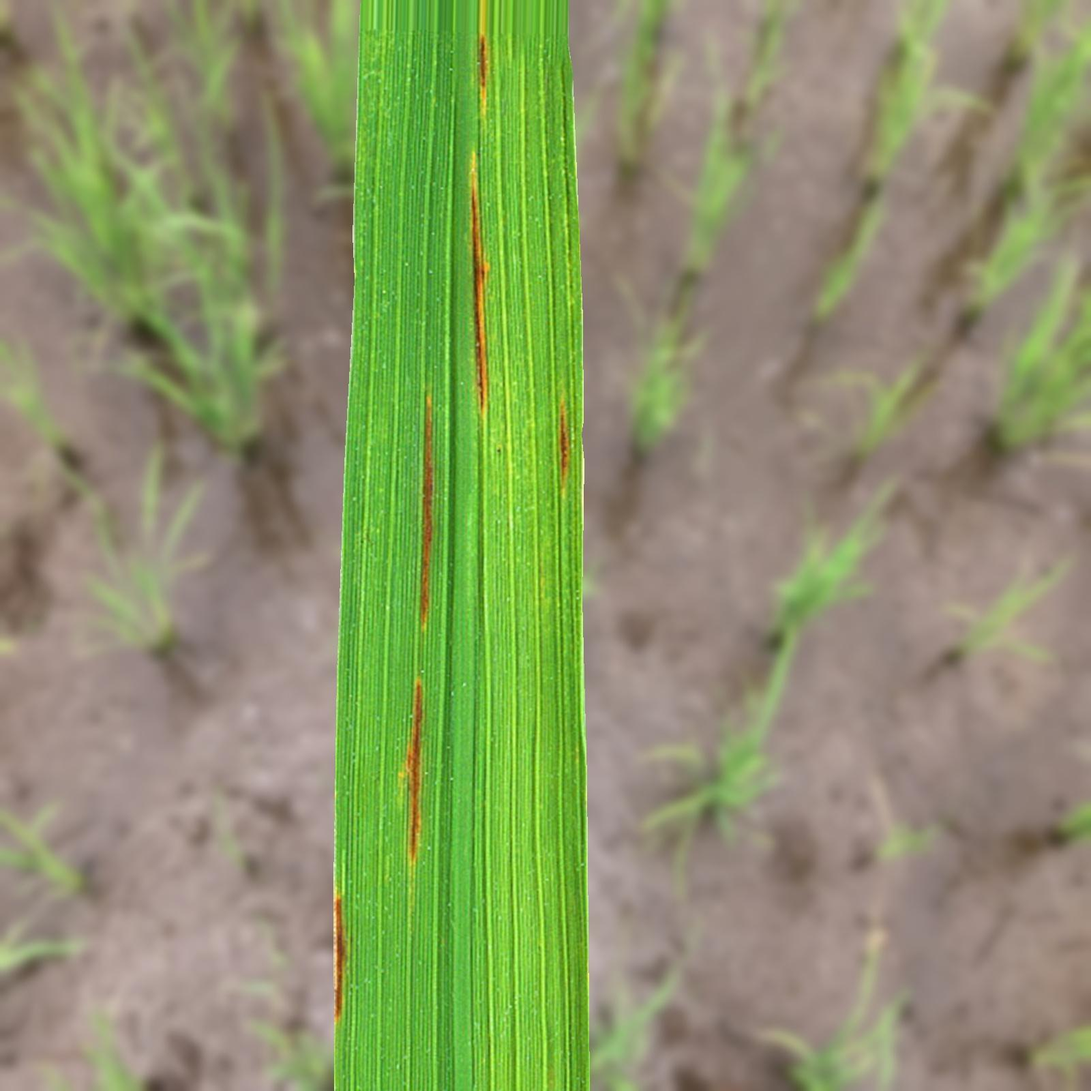LEAF: (333, 0, 590, 1090)
NBS: (471, 152, 488, 414), (406, 676, 423, 863), (420, 395, 433, 627), (335, 894, 346, 1023), (558, 398, 573, 491), (479, 30, 488, 110)
